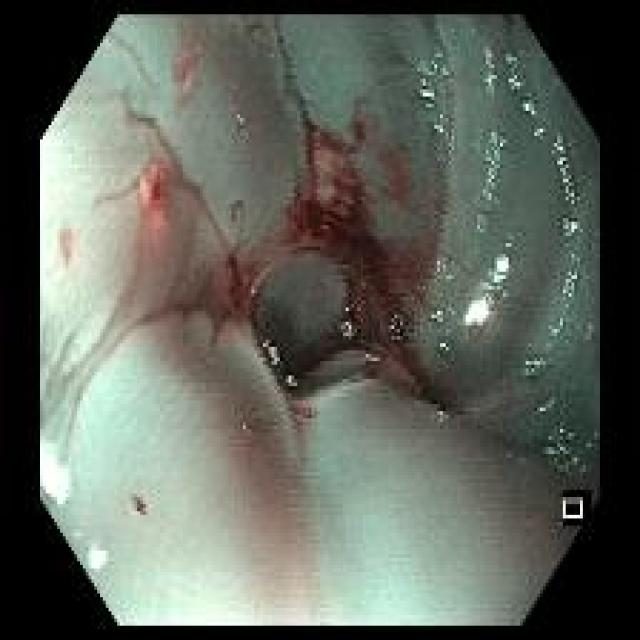blood: (286, 121, 405, 347), (226, 254, 242, 297)
color misalignment: (563, 499, 584, 522)
specularity: (524, 255, 580, 376), (465, 257, 510, 330), (545, 425, 588, 482), (484, 131, 508, 215), (420, 50, 450, 109), (42, 451, 74, 506), (554, 132, 576, 205), (434, 113, 457, 158), (484, 50, 497, 95), (88, 548, 108, 573), (562, 218, 585, 238), (391, 317, 405, 346), (340, 321, 358, 343), (265, 343, 279, 365), (540, 398, 556, 415), (432, 409, 448, 424), (284, 376, 300, 390), (428, 309, 443, 323), (523, 103, 537, 117), (437, 258, 447, 276), (476, 217, 485, 236), (508, 78, 523, 89), (437, 343, 452, 352), (533, 129, 545, 139), (505, 56, 517, 66)
